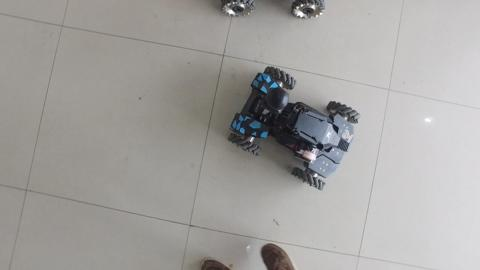chariot: (227, 58, 363, 195)
